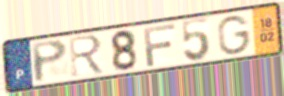5: (180, 15, 212, 63)
8: (110, 28, 139, 73)
F: (142, 22, 178, 68)
G: (216, 14, 253, 57)
P: (29, 38, 70, 85)
R: (67, 33, 108, 79)
